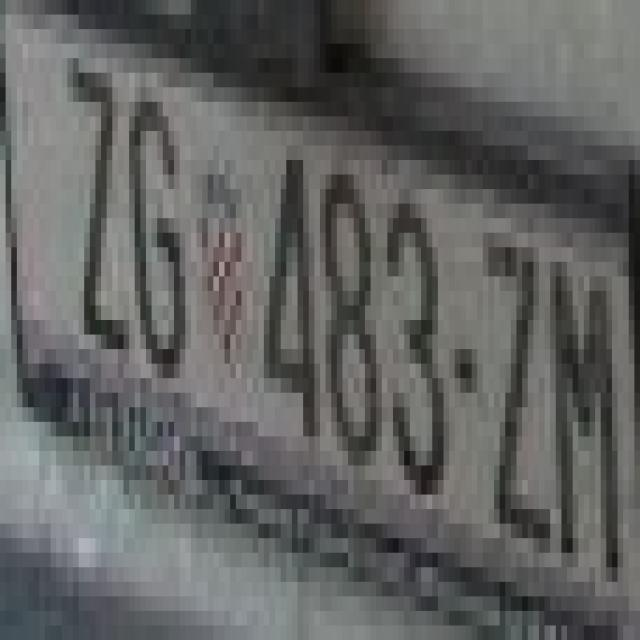3: (382, 175, 454, 494)
4: (253, 146, 320, 466)
8: (314, 131, 388, 465)
G: (124, 58, 186, 393)
M: (550, 233, 634, 567)
Z: (477, 218, 556, 553), (62, 44, 124, 364)
